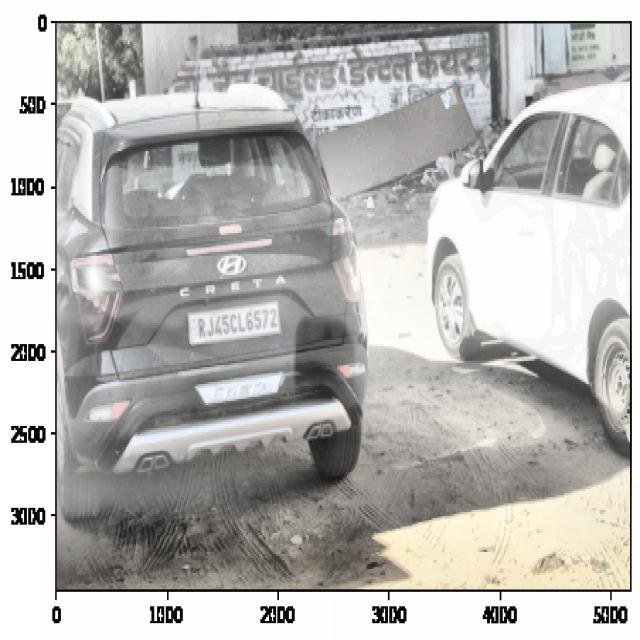license_plate: (194, 304, 281, 343)
